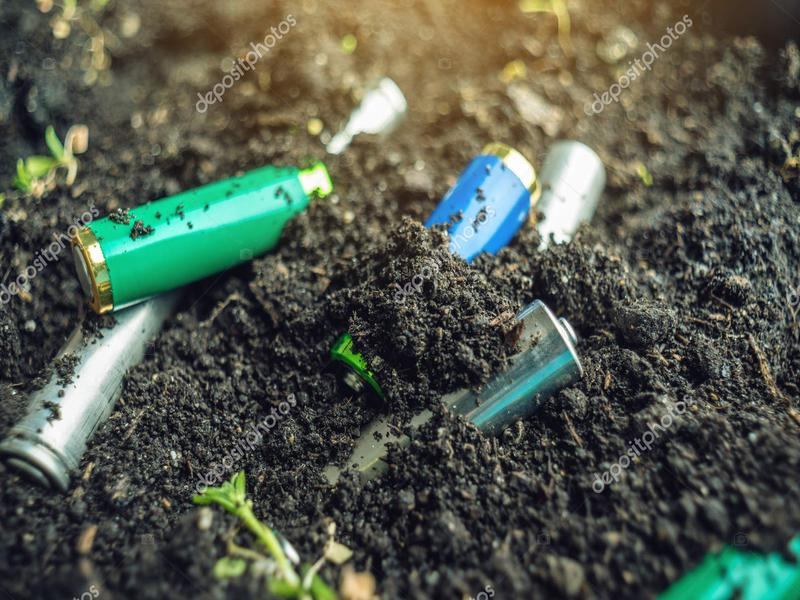battery: (52, 151, 341, 317), (1, 296, 178, 495)
